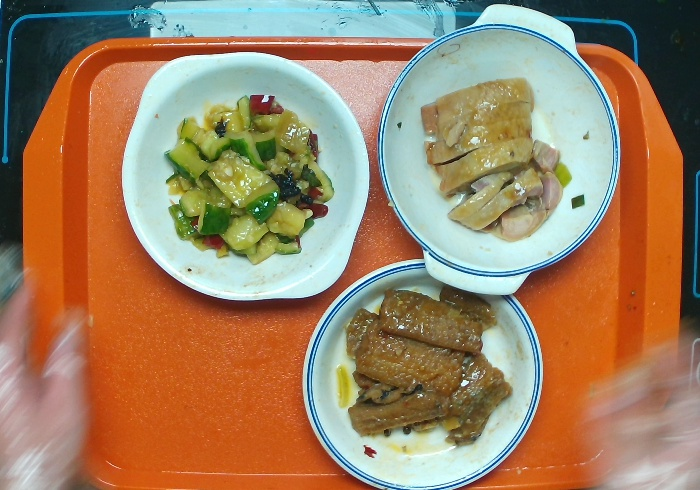HZYJPL-Dai_Er_Bai_Yuan_Wan: (117, 48, 372, 303)
HZYJPL-Lan_Bian_Dai_Er_Wan: (374, 1, 624, 298)
HZYJPL-Lan_Bian_Yuan_Die: (298, 254, 548, 490)
